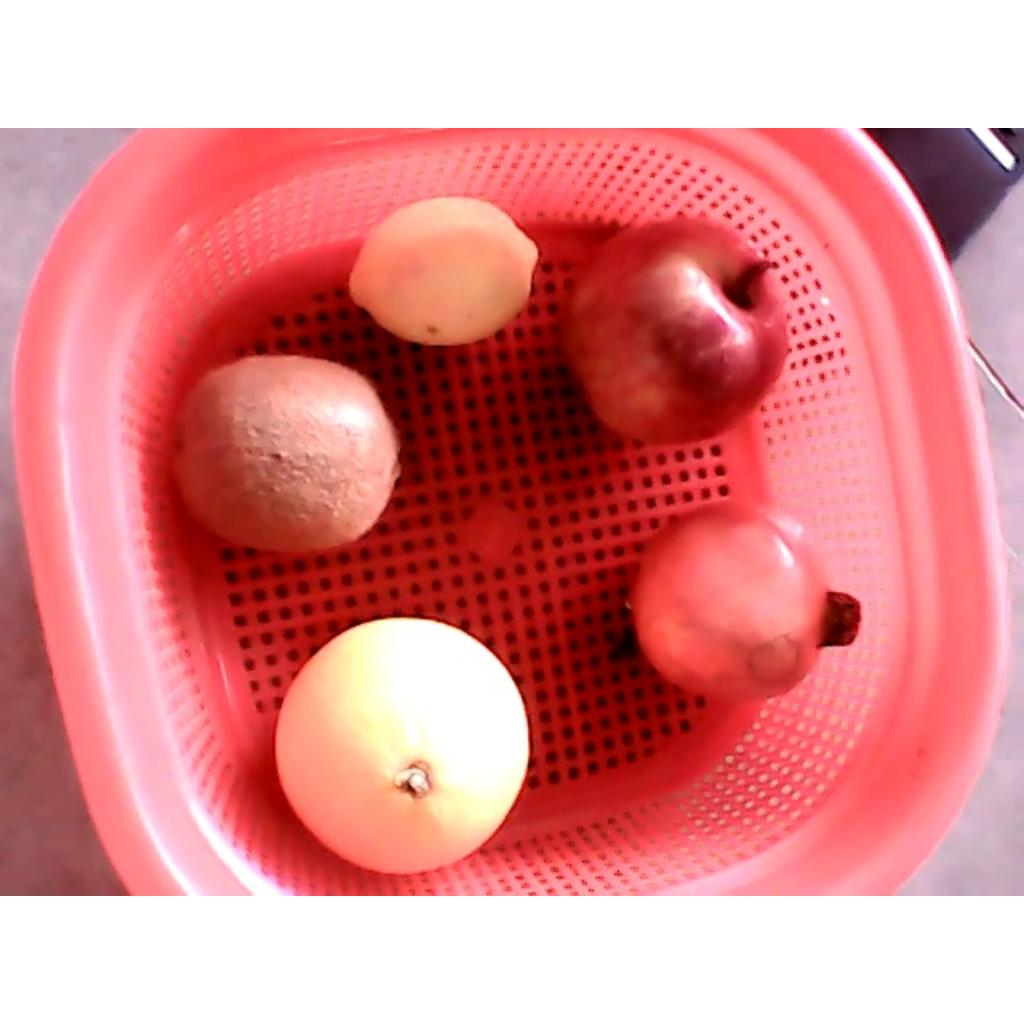apple: (557, 213, 792, 447)
kiwi: (164, 352, 400, 556)
lemon: (348, 196, 538, 346)
orange: (272, 617, 531, 876)
pomegranate: (628, 495, 861, 705)
